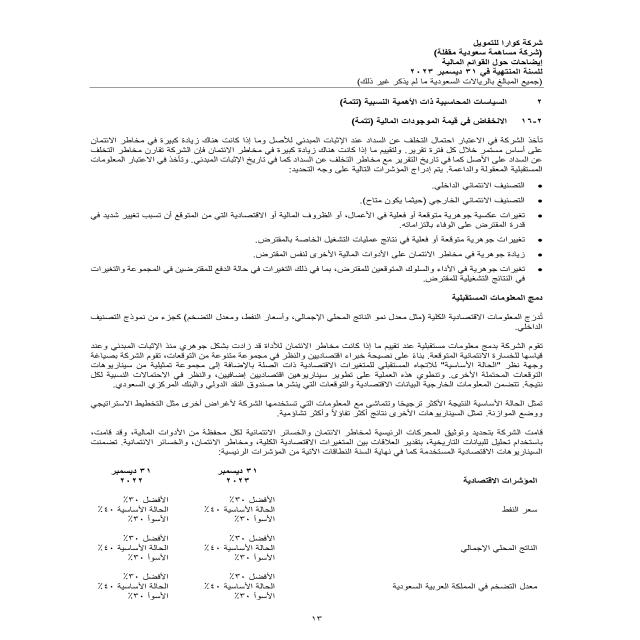notes: (432, 55, 548, 68)
table: (69, 459, 564, 606)
